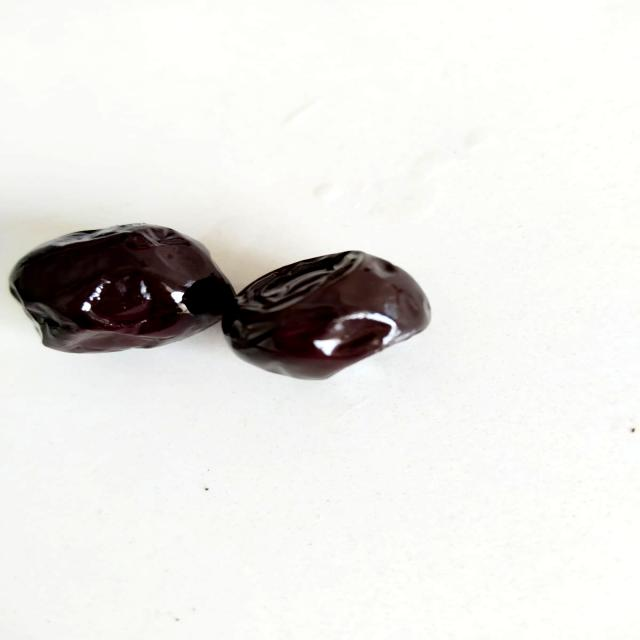olive: (0, 212, 243, 377), (224, 245, 445, 390)
